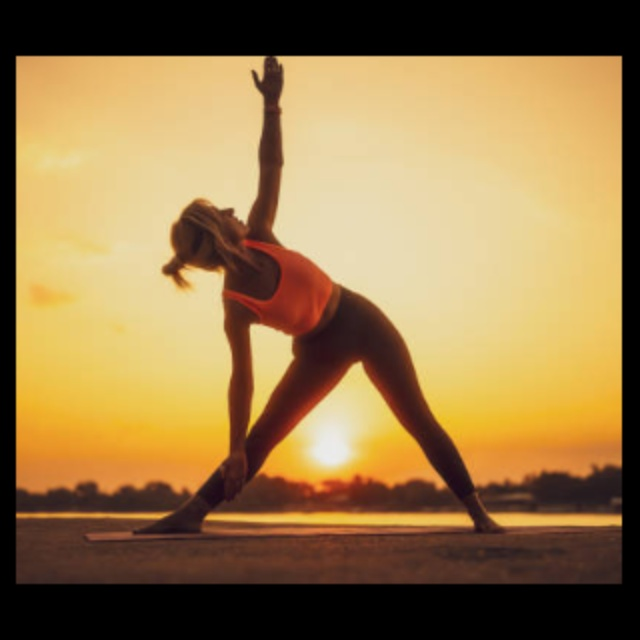Triangle_Pose: (123, 56, 514, 543)
